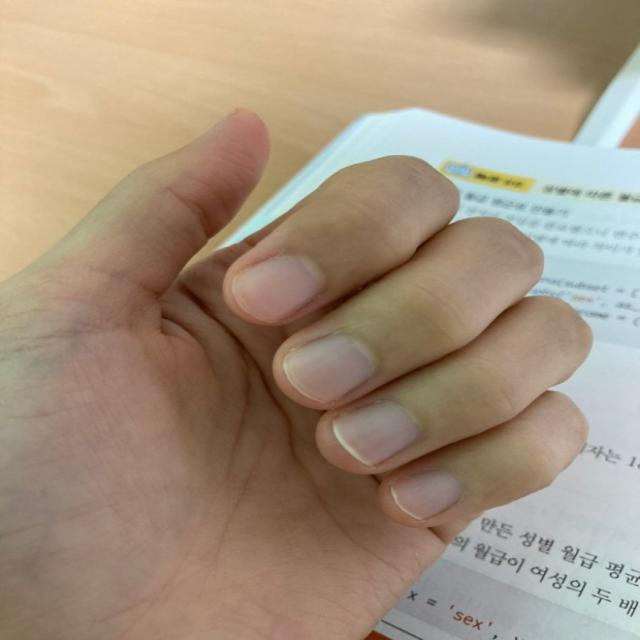Nail: (282, 335, 377, 403), (232, 256, 323, 323), (332, 401, 419, 466), (390, 469, 464, 519)
